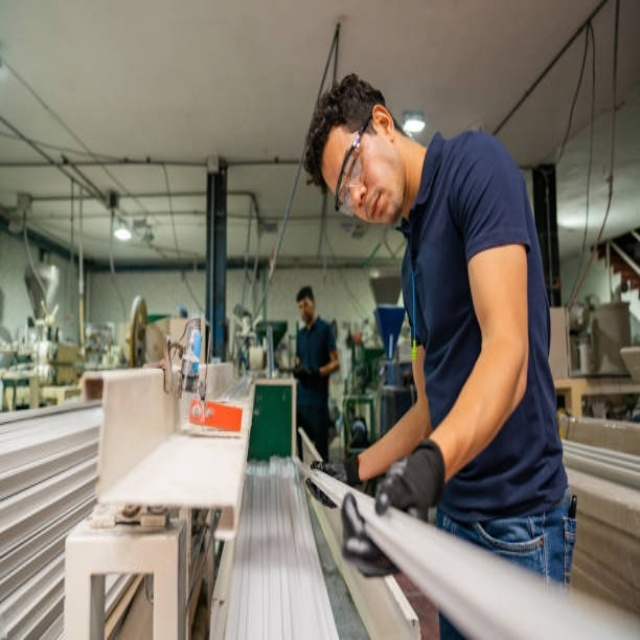Gafas: (334, 113, 373, 215)
Guantes: (340, 430, 450, 599), (303, 444, 362, 516)
Sin_mascara: (360, 185, 394, 221)
